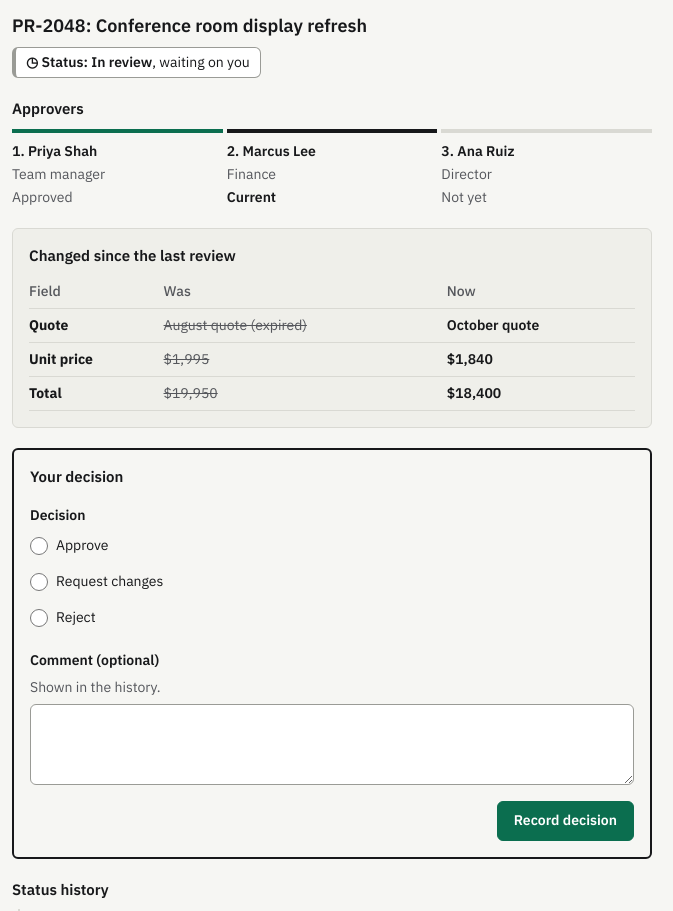
Test: ApprovalWorkflow › approves, appends history, announces, and moves focus to the history
Click the radio button labelled "Approve" at (39, 546), box [30, 536, 48, 554]
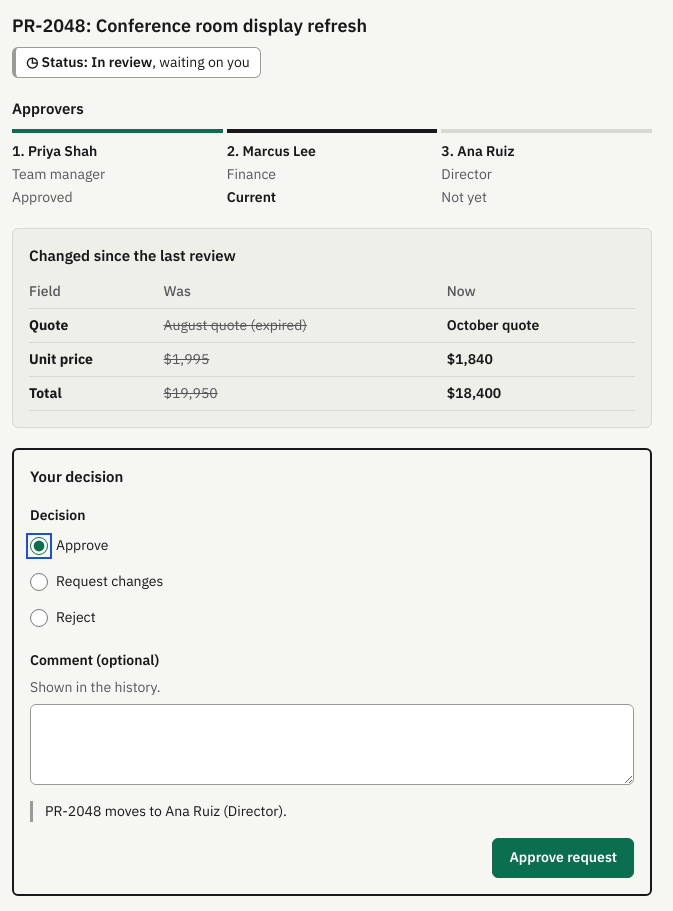
Click the button "Approve request" at (563, 858), box [492, 838, 634, 878]
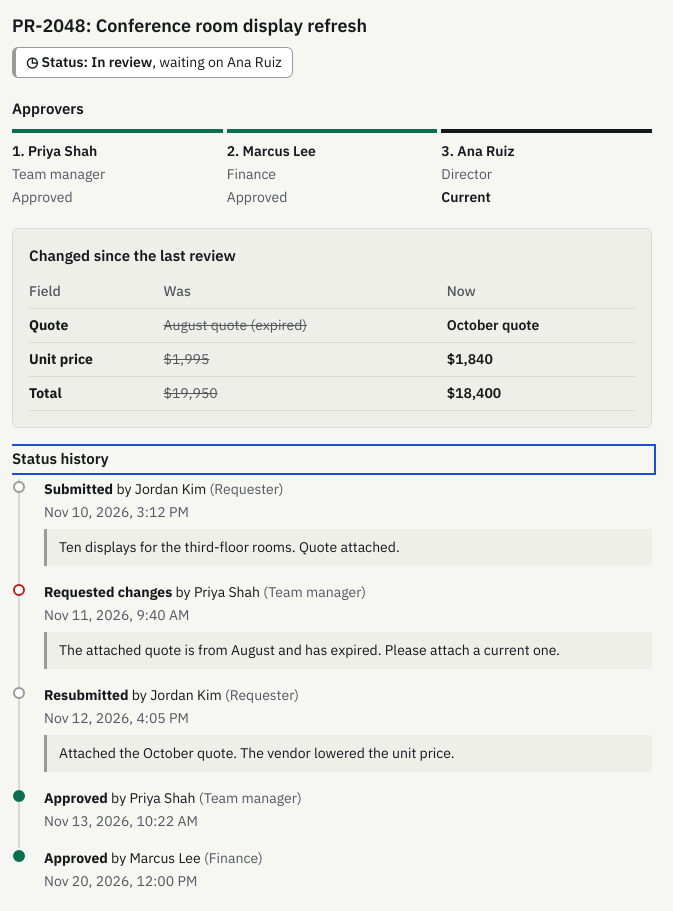
Expected: the heading "Your decision" is gone
Expected: the text "◷ Status: In review, waiting on Ana Ruiz" is shown, [12, 47, 293, 78]
